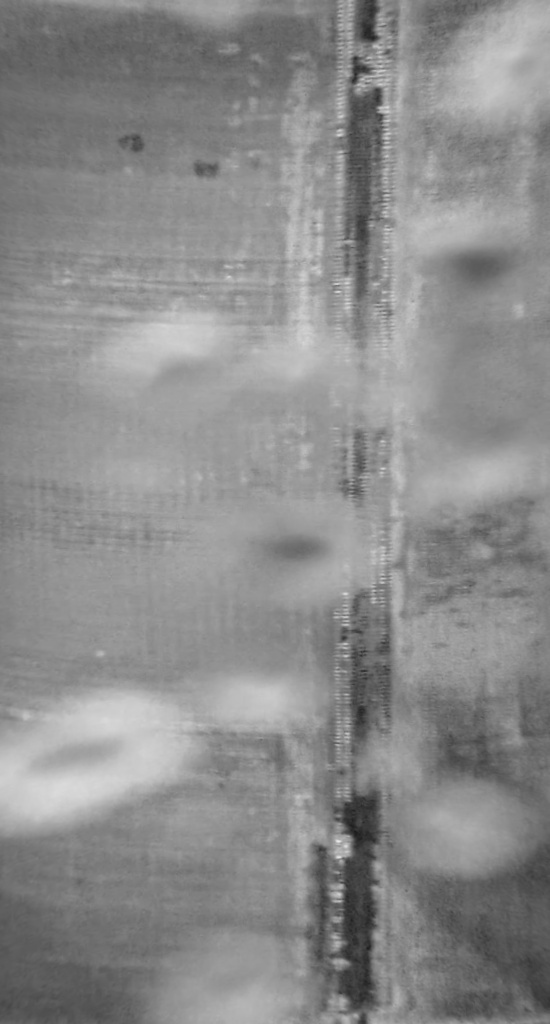splice: (312, 1, 409, 1022)
